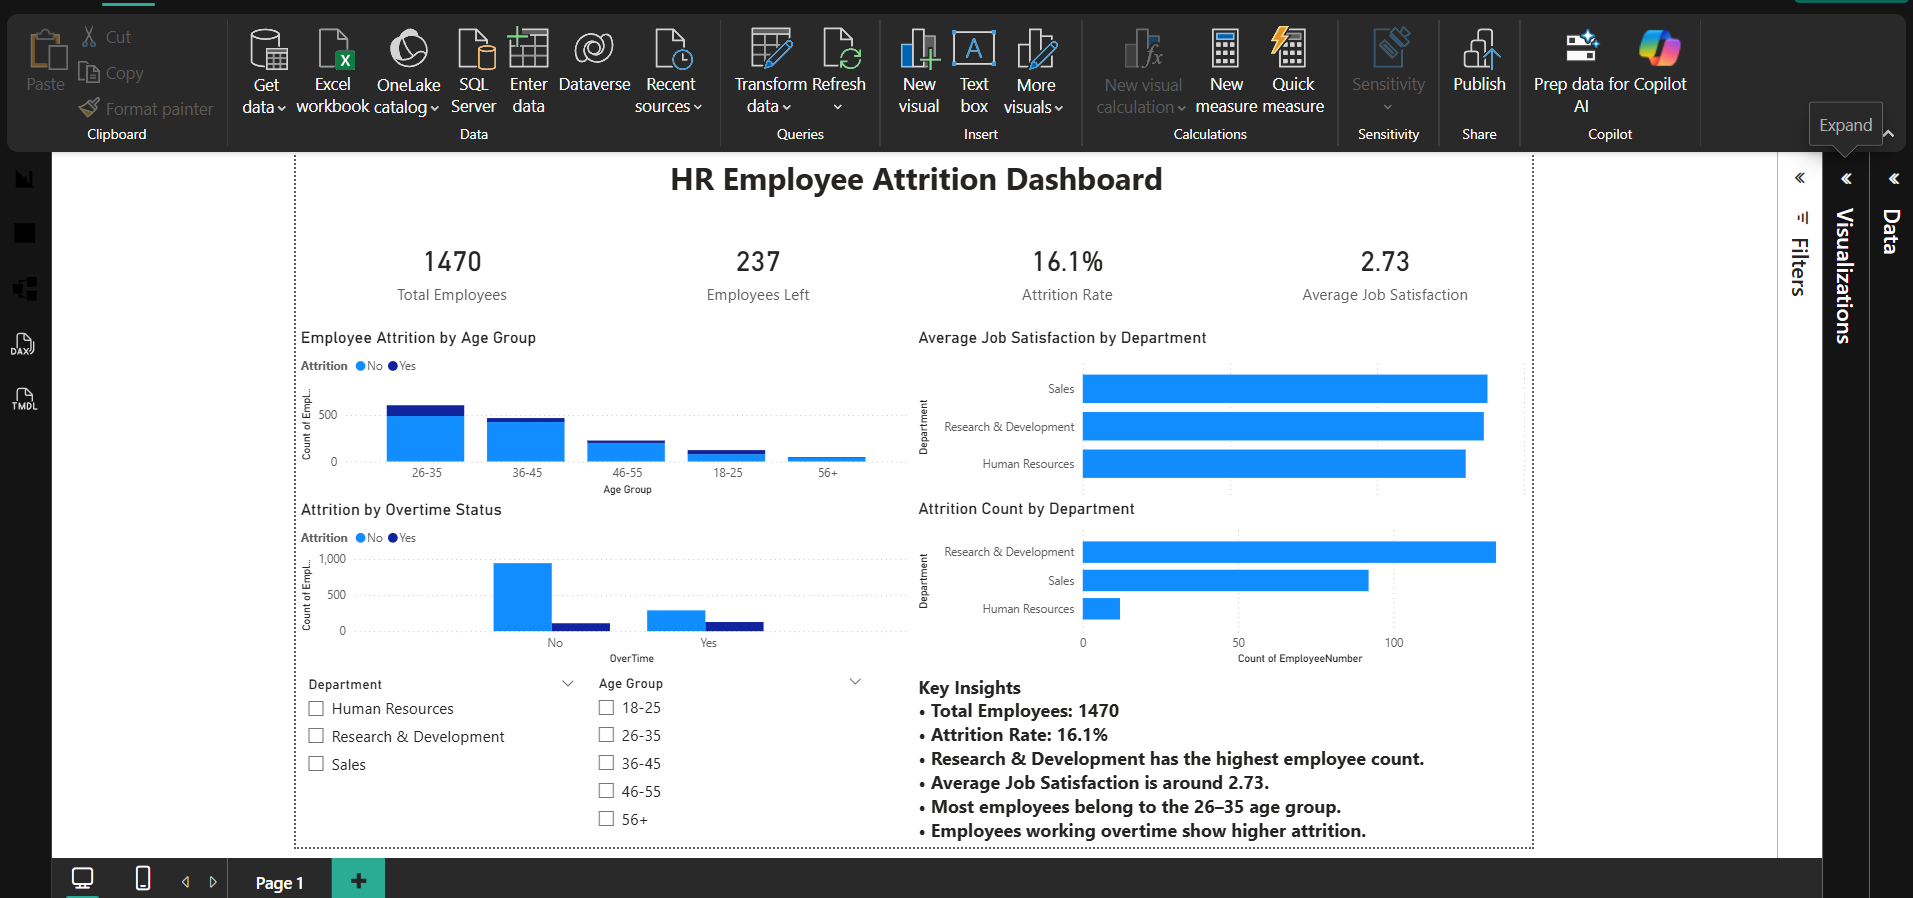

The page's visual inventory and layout, read from the dashboard file:
{"tool":"powerbi","page":{"name":"Page 1","canvas":[1280,720],"ordinal":0},"visuals":[{"type":"card","fields":{"Values":["WA_Fn-UseC_-HR-Employee-Attrition.Employees Left"]},"box":[320.7,60.9,316.1,121.7],"z":1},{"type":"card","fields":{"Values":["WA_Fn-UseC_-HR-Employee-Attrition.Attrition Rate"]},"box":[641.5,60.9,316.1,121.7],"z":2},{"type":"card","fields":{"Values":["WA_Fn-UseC_-HR-Employee-Attrition.Average Job Satisfaction"]},"box":[978.6,60.9,299.7,121.7],"z":3},{"type":"card","fields":{"Values":["WA_Fn-UseC_-HR-Employee-Attrition.Total Employees"]},"box":[0,60.9,323.1,121.7],"z":4},{"type":"columnChart","title":"Employee Attrition by Age Group","fields":{"Y":["CountNonNull(WA_Fn-UseC_-HR-Employee-Attrition.EmployeeNumber)"],"Series":["WA_Fn-UseC_-HR-Employee-Attrition.Attrition"],"Category":["WA_Fn-UseC_-HR-Employee-Attrition.Age Group"]},"box":[0,182.6,639.2,177.9],"z":5},{"type":"clusteredColumnChart","title":"Attrition by Overtime Status","fields":{"Category":["WA_Fn-UseC_-HR-Employee-Attrition.OverTime"],"Y":["CountNonNull(WA_Fn-UseC_-HR-Employee-Attrition.EmployeeNumber)"],"Series":["WA_Fn-UseC_-HR-Employee-Attrition.Attrition"]},"box":[0,361,639.1,175.6],"z":6},{"type":"clusteredBarChart","fields":{"Category":["WA_Fn-UseC_-HR-Employee-Attrition.Department"],"Y":["WA_Fn-UseC_-HR-Employee-Attrition.Average Job Satisfaction"]},"box":[639.2,182.6,641.5,210.7],"z":7},{"type":"clusteredBarChart","title":"Attrition Count by Department","fields":{"Category":["WA_Fn-UseC_-HR-Employee-Attrition.Department"],"Y":["CountNonNull(WA_Fn-UseC_-HR-Employee-Attrition.EmployeeNumber)"]},"box":[639.5,358.9,640.9,176.6],"z":8},{"type":"textbox","box":[2.3,0,1276,60.9],"z":9},{"type":"slicer","fields":{"Values":["WA_Fn-UseC_-HR-Employee-Attrition.Department"]},"box":[0,538.4,300.5,182.3],"z":10},{"type":"slicer","fields":{"Values":["WA_Fn-UseC_-HR-Employee-Attrition.Age Group"]},"box":[300,536.7,297.6,183],"z":11},{"type":"textbox","box":[639.5,535.5,640.9,183.7],"z":12}]}

Visuals, with their boxes on the page's 1280x720 design canvas (x1, y1, x2, y2). These are canvas units, not pixel positions in the 1913x898 screenshot, which may show the page scaled, cropped or inside an application window:
card - WA_Fn-UseC_-HR-Employee-Attrition.Employees Left: <region>321, 61, 637, 183</region>
card - WA_Fn-UseC_-HR-Employee-Attrition.Attrition Rate: <region>642, 61, 958, 183</region>
card - WA_Fn-UseC_-HR-Employee-Attrition.Average Job Satisfaction: <region>979, 61, 1278, 183</region>
card - WA_Fn-UseC_-HR-Employee-Attrition.Total Employees: <region>0, 61, 323, 183</region>
"Employee Attrition by Age Group" columnChart: <region>0, 183, 639, 360</region>
"Attrition by Overtime Status" clusteredColumnChart: <region>0, 361, 639, 537</region>
clusteredBarChart - WA_Fn-UseC_-HR-Employee-Attrition.Department x WA_Fn-UseC_-HR-Employee-Attrition.Average Job Satisfaction: <region>639, 183, 1281, 393</region>
"Attrition Count by Department" clusteredBarChart: <region>640, 359, 1280, 536</region>
textbox: <region>2, 0, 1278, 61</region>
slicer - WA_Fn-UseC_-HR-Employee-Attrition.Department: <region>0, 538, 300, 721</region>
slicer - WA_Fn-UseC_-HR-Employee-Attrition.Age Group: <region>300, 537, 598, 720</region>
textbox: <region>640, 536, 1280, 719</region>
